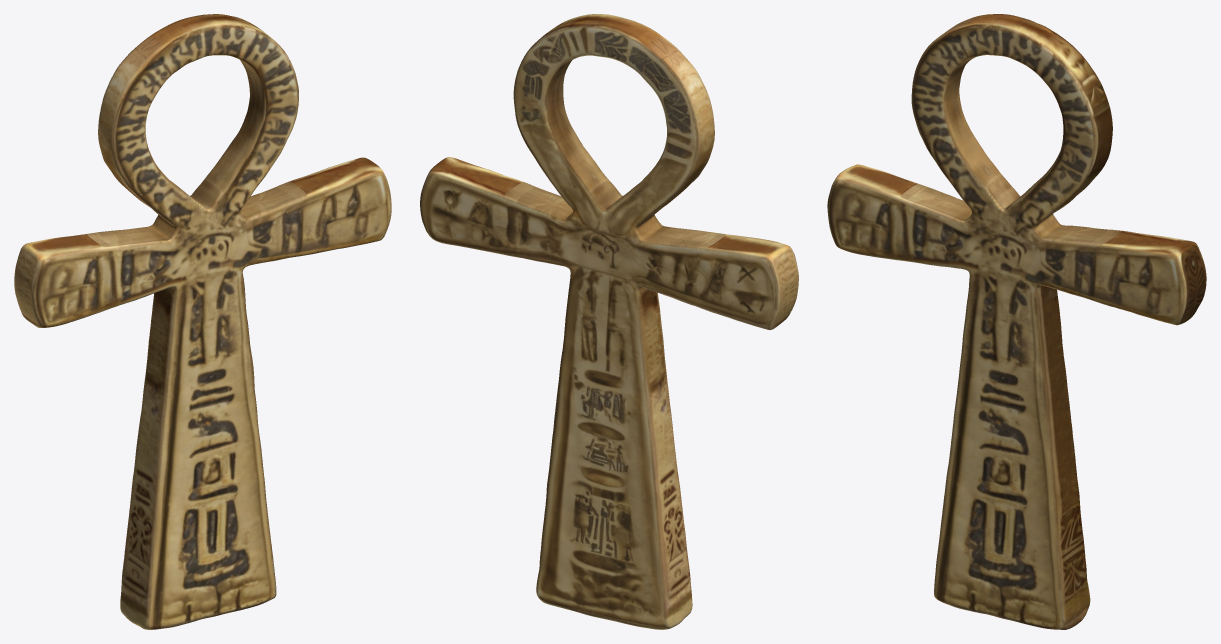
Rendered from Ankh_symbol_with_hier_0918073751.fbx.
The picture shows the model from 3 angles, left to right: view 1: azimuth 30°, elevation 25°; view 2: azimuth 150°, elevation 25°; view 3: azimuth 330°, elevation 25°; orthographic projection.
Visible parts, largest first — view 1: Mesh_0; view 2: Mesh_0; view 3: Mesh_0.
Part boxes in pixels (x1,y1,x2,y2): Mesh_0: [14, 14, 391, 629]; Mesh_0: [420, 14, 798, 629]; Mesh_0: [827, 14, 1206, 629].
Size of the model in its own units: 128 by 200 by 18.9.
Materials: 1 (1 with a texture image).
